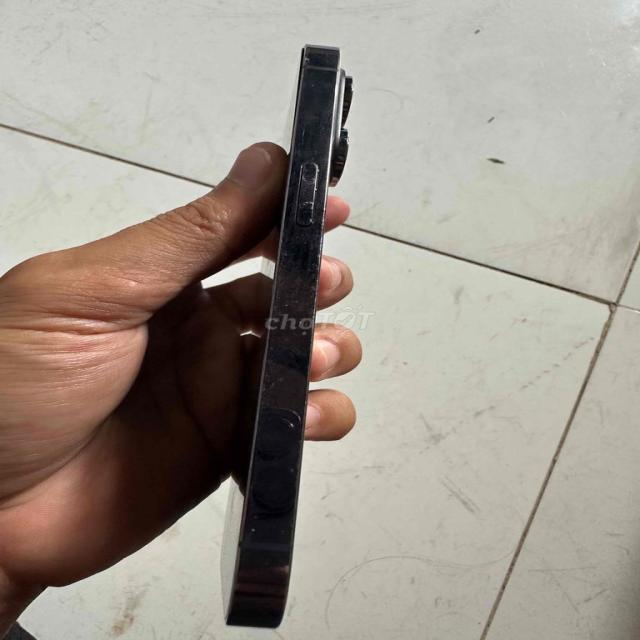scratch: (273, 133, 333, 267), (230, 517, 298, 580), (258, 358, 309, 426), (293, 44, 364, 80)
